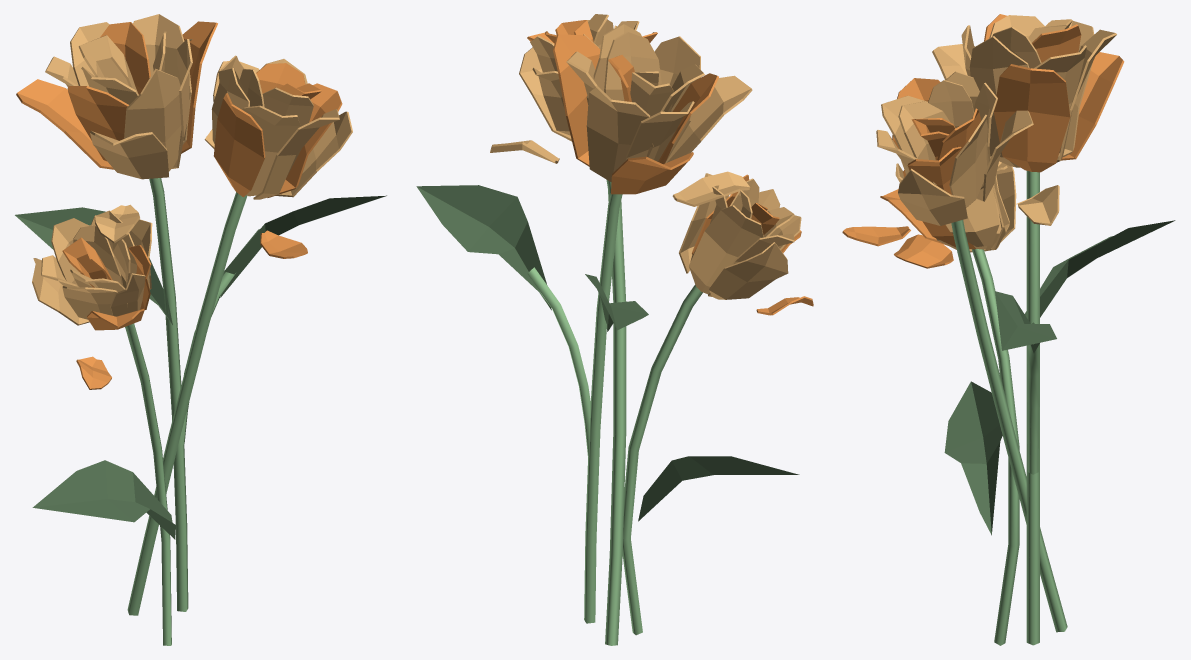
File: roses.glb
3 views of the same model, side by side, from view 1: azimuth 30°, elevation 25°; view 2: azimuth 150°, elevation 25°; view 3: azimuth 270°, elevation 25° (orthographic). The views are drawn at different scales.
Visible parts, largest first — view 1: Plane.015; view 2: Plane.015; view 3: Plane.015.
Part boxes in pixels (left/top/right/bottom): Plane.015: left=15, top=14, right=386, bottom=645; Plane.015: left=416, top=14, right=813, bottom=645; Plane.015: left=842, top=14, right=1175, bottom=645.
Size of the model in its own units: 4.59 by 7.2 by 3.52.
